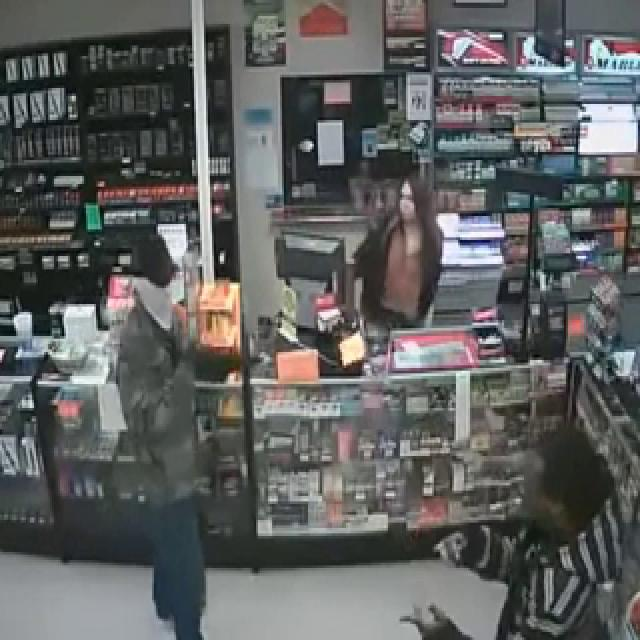robbery: (77, 55, 625, 640)
